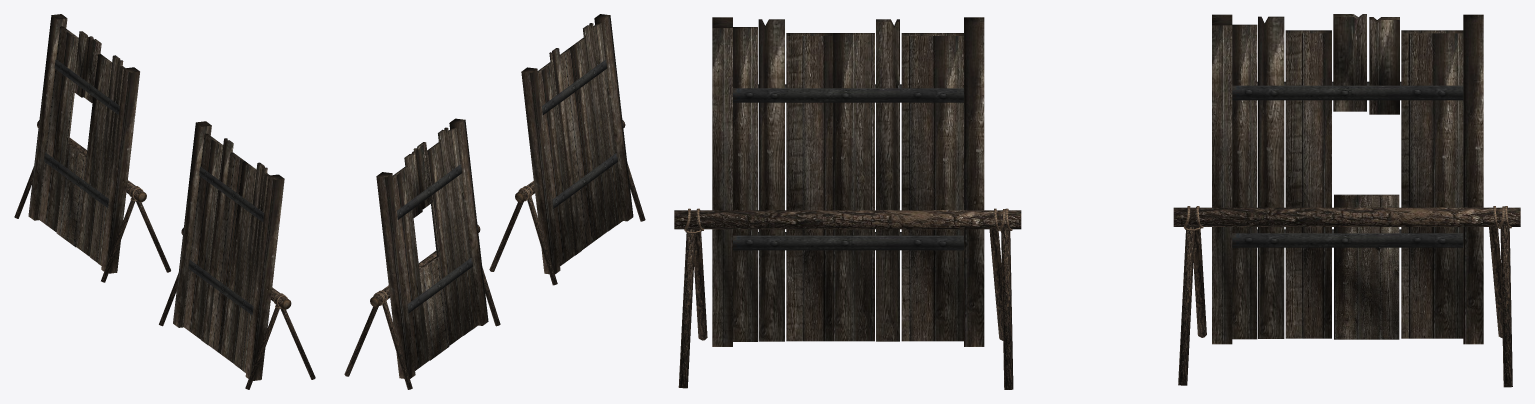
3 views of the same model, side by side, from view 1: azimuth 30°, elevation 25°; view 2: azimuth 150°, elevation 25°; view 3: azimuth 270°, elevation 25° (orthographic). The views are drawn at different scales.
Visible parts, largest first — view 1: barricades; view 2: barricades; view 3: barricades.
Boxes of the visible parts, left/top/right/bottom form: barricades: left=14, top=14, right=315, bottom=389; barricades: left=344, top=14, right=645, bottom=389; barricades: left=674, top=14, right=1520, bottom=389.
Size of the model in its own units: 60.4 by 177 by 385.
Materials: 1 (1 with a texture image).
